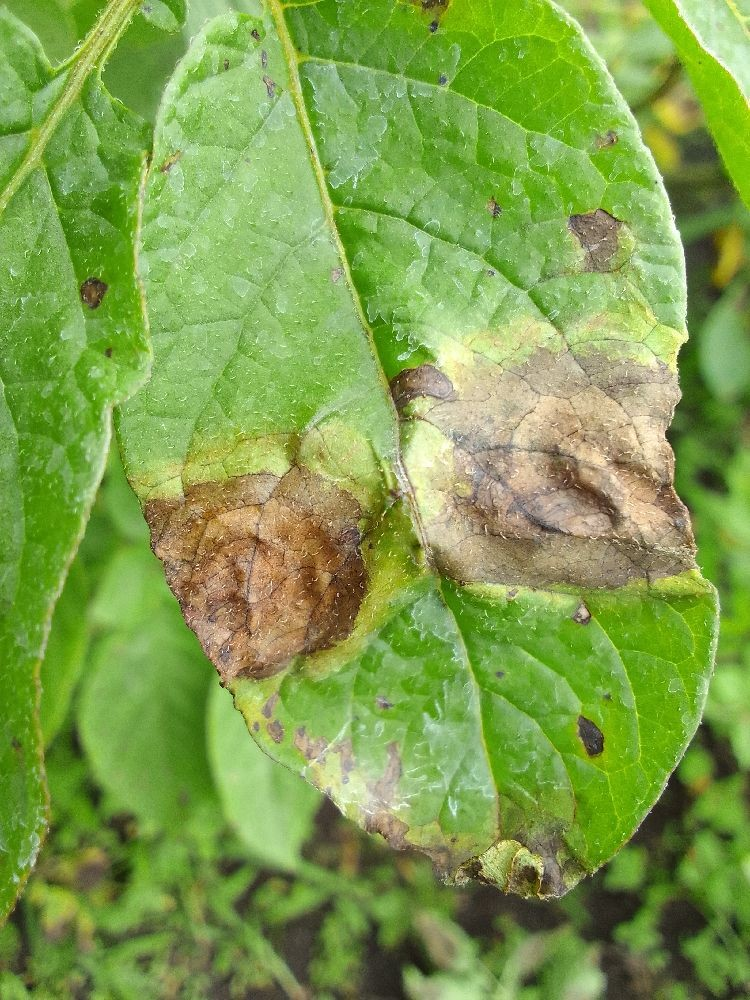late_blight: (246, 743, 750, 1000), (376, 312, 730, 624), (126, 421, 404, 777), (673, 214, 750, 323)
